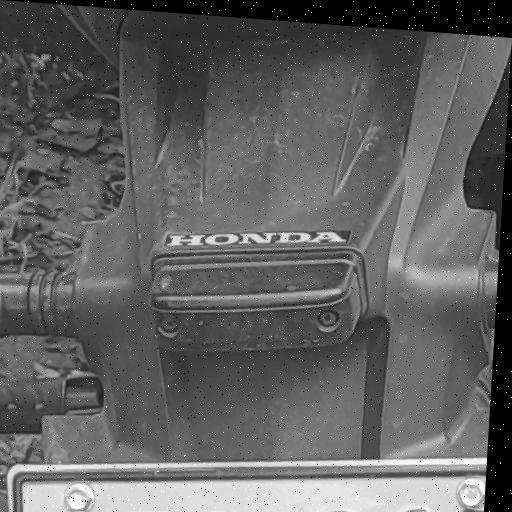placa: (18, 457, 487, 512)
